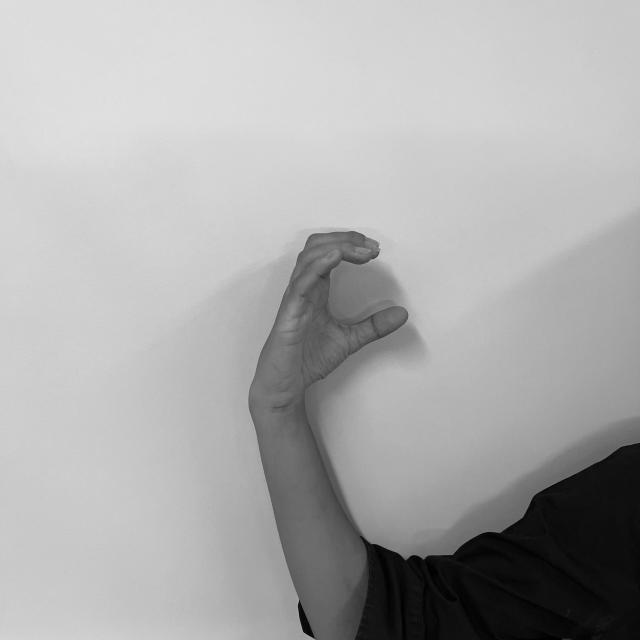Letra C: (244, 228, 412, 411)
